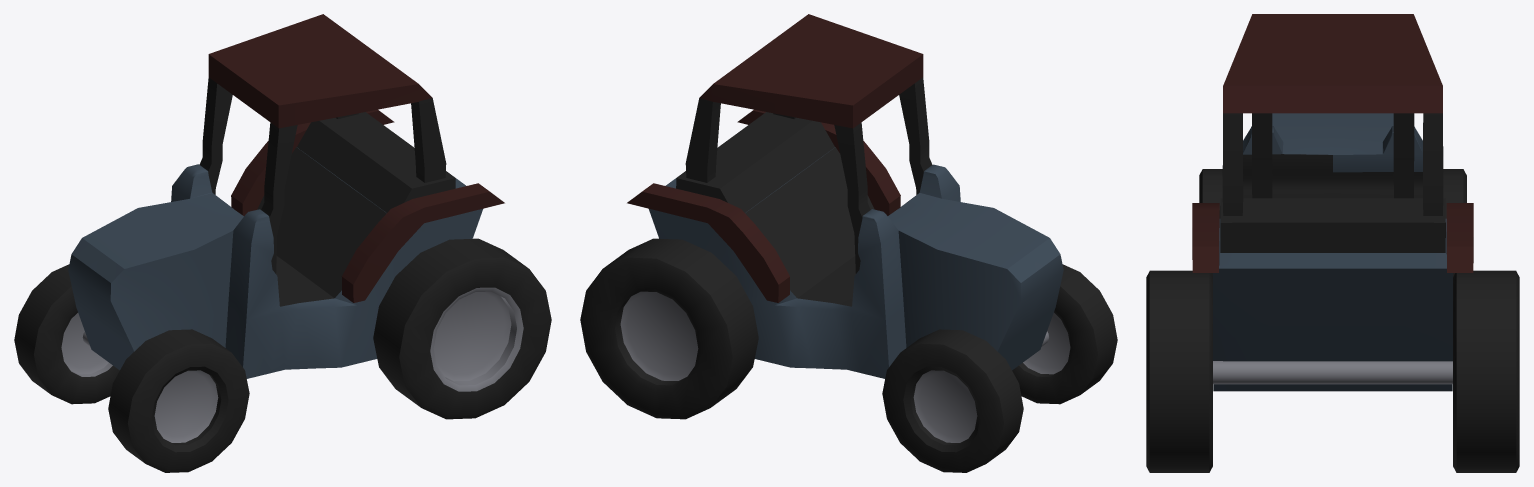
File: Tractor.dae
3 renders of one model, left to right at view 1: azimuth 30°, elevation 25°; view 2: azimuth 150°, elevation 25°; view 3: azimuth 270°, elevation 25°, orthographic. The views are drawn at different scales.
Parts seen in each view (by area): view 1: Chassie.009, Chassie.006, Chassie.005, Chassie.001, Chassie.002, Chassie.010, Chassie.004; view 2: Chassie.009, Chassie.006, Chassie.005, Chassie.001, Chassie.002, Chassie.010, Chassie.004; view 3: Chassie.009, Chassie.006, Chassie.001, Chassie.002, Chassie.004, Chassie.010, Chassie.005.
Boxes of the visible parts, bbox=[...] form: Chassie.009: bbox=[68, 147, 482, 378]; Chassie.006: bbox=[373, 238, 551, 419]; Chassie.005: bbox=[14, 264, 249, 472]; Chassie.001: bbox=[208, 14, 432, 128]; Chassie.002: bbox=[297, 112, 455, 212]; Chassie.010: bbox=[231, 109, 504, 302]; Chassie.004: bbox=[199, 77, 446, 273]; Chassie.009: bbox=[649, 147, 1063, 378]; Chassie.006: bbox=[580, 238, 758, 419]; Chassie.005: bbox=[882, 264, 1117, 472]; Chassie.001: bbox=[699, 14, 923, 128]; Chassie.002: bbox=[676, 112, 834, 212]; Chassie.010: bbox=[627, 109, 900, 302]; Chassie.004: bbox=[685, 77, 932, 273]; Chassie.009: bbox=[1213, 113, 1452, 391]; Chassie.006: bbox=[1146, 270, 1519, 472]; Chassie.001: bbox=[1223, 14, 1442, 113]; Chassie.002: bbox=[1220, 198, 1445, 252]; Chassie.004: bbox=[1222, 113, 1443, 215]; Chassie.010: bbox=[1192, 203, 1473, 272]; Chassie.005: bbox=[1199, 169, 1466, 276].
Size of the model in its own units: 2.2 by 1.54 by 1.7.
